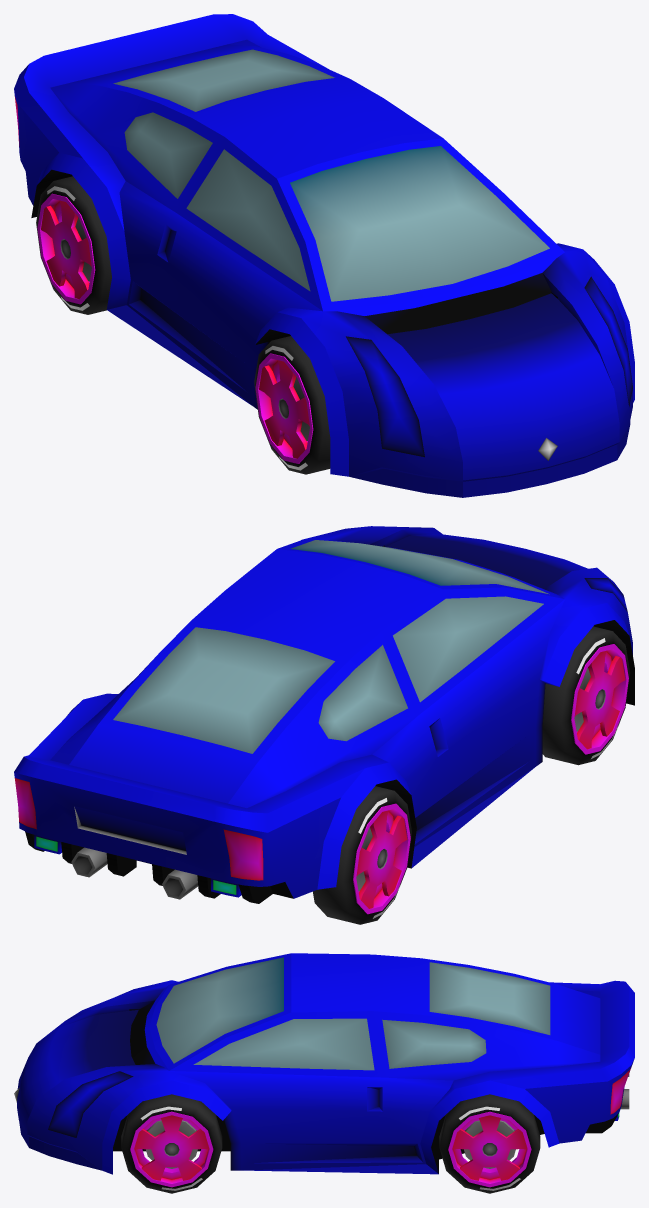
Rendered from Car_aerodynamic.fbx.
3 renders of one model, top to bottom at view 1: azimuth 30°, elevation 25°; view 2: azimuth 150°, elevation 25°; view 3: azimuth 270°, elevation 25°, orthographic. The views are drawn at different scales.
Parts seen in each view (by area): view 1: chassi, wheel_RF, wheel_RR; view 2: chassi, wheel_RF, wheel_RR; view 3: chassi, wheel_LR, wheel_LF.
Boxes of the visible parts, bbox=[...] form: chassi: bbox=[14, 14, 634, 497]; wheel_RF: bbox=[254, 336, 330, 474]; wheel_RR: bbox=[36, 176, 111, 314]; chassi: bbox=[14, 526, 634, 903]; wheel_RF: bbox=[542, 626, 630, 765]; wheel_RR: bbox=[313, 786, 411, 924]; chassi: bbox=[14, 953, 634, 1174]; wheel_LR: bbox=[439, 1094, 540, 1193]; wheel_LF: bbox=[121, 1094, 222, 1193].
Size of what is drawn, in the model's own units: 1.32 by 0.8789 by 3.08.
